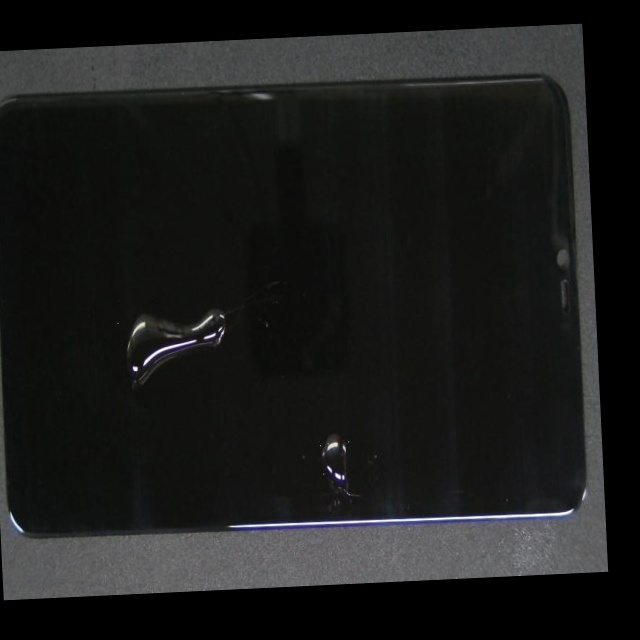oil: (153, 216, 492, 592), (120, 175, 272, 454)
